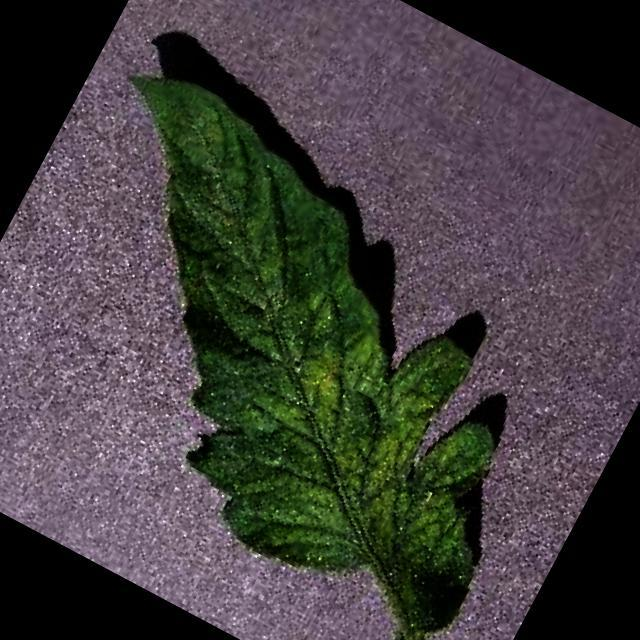Tomato mosaic virus leaf: (0, 47, 626, 640)
